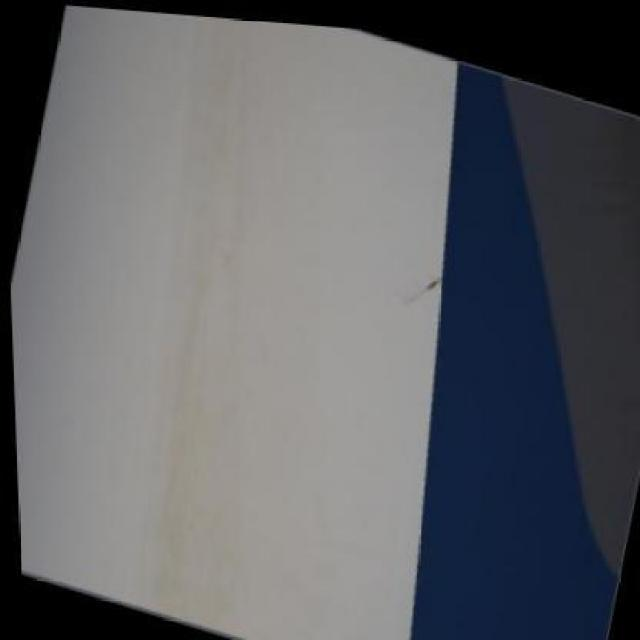Crack: (394, 236, 448, 315)
